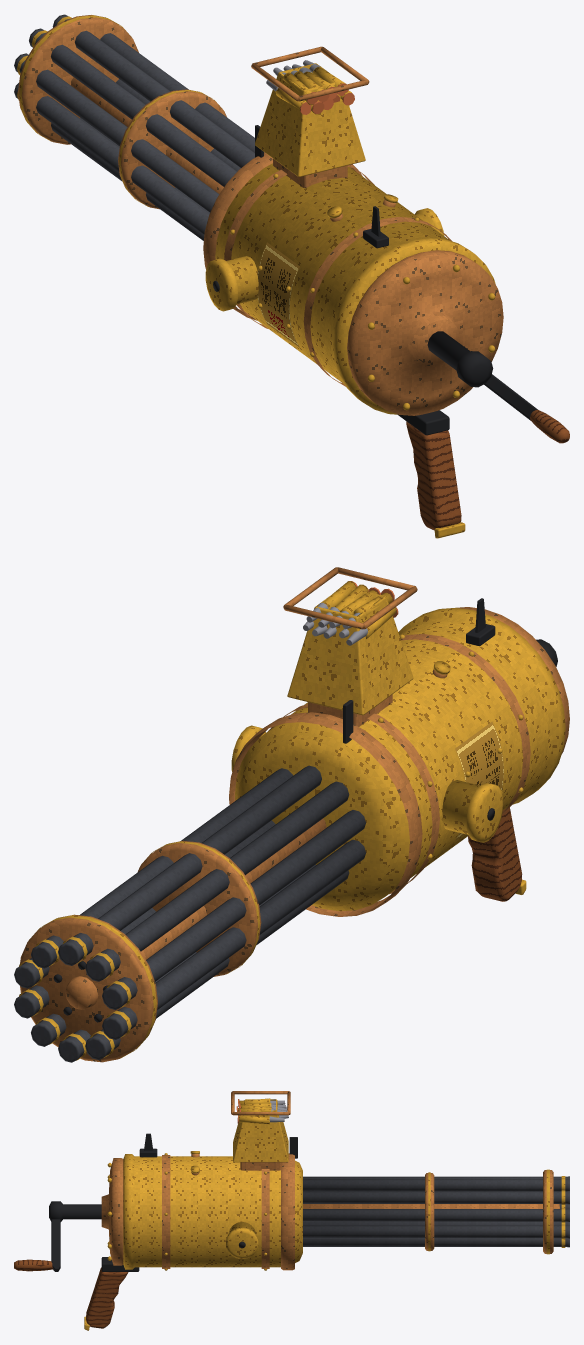
File: w_minigun_gatling.glb
3 views of the same model, one above another, from view 1: azimuth 30°, elevation 25°; view 2: azimuth 150°, elevation 25°; view 3: azimuth 270°, elevation 25° (orthographic). The views are drawn at different scales.
Parts seen in each view (by area): view 1: gatling_body_wzA, gatling_barrels_wzB, gatling_body_wzN; view 2: gatling_body_wzA, gatling_barrels_wzB, gatling_body_wzN; view 3: gatling_body_wzA, gatling_barrels_wzB, gatling_body_wzN.
Part boxes in pixels (left/top/right/bottom): gatling_body_wzA: left=203, top=46, right=503, bottom=538; gatling_barrels_wzB: left=14, top=14, right=569, bottom=443; gatling_body_wzN: left=257, top=60, right=354, bottom=347; gatling_body_wzA: left=229, top=567, right=569, bottom=916; gatling_barrels_wzB: left=14, top=639, right=557, bottom=1062; gatling_body_wzN: left=303, top=581, right=503, bottom=840; gatling_body_wzA: left=84, top=1091, right=302, bottom=1330; gatling_barrels_wzB: left=14, top=1169, right=569, bottom=1271; gatling_body_wzN: left=236, top=1099, right=288, bottom=1123.
Bounding box in the file's own units: 0.269 × 0.4252 × 0.95.
9 materials, 5 textured.
